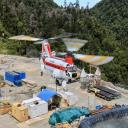helicopter: (10, 28, 117, 88)
